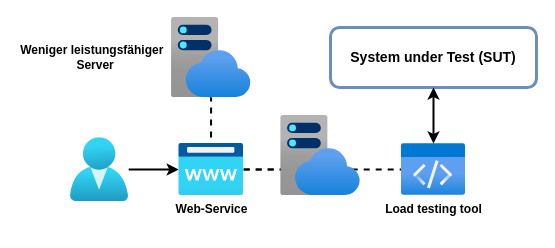
This 555x248 diagram has some shape labels left out. The centre of each missing label's shape, as x and y in pixels:
Benutzer: the point at 99,169
Leistungsfähiger Server: the point at 320,155
